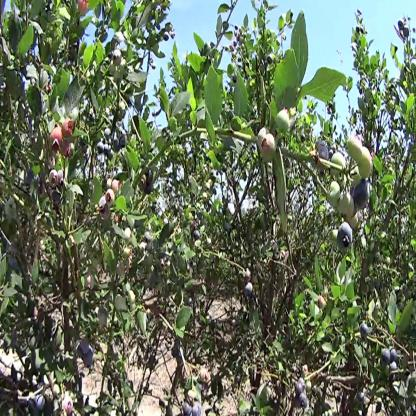intermediate: (55, 119, 75, 161)
mature: (78, 336, 95, 369), (382, 347, 400, 377), (353, 183, 371, 208), (296, 378, 310, 407), (338, 224, 352, 249), (315, 141, 330, 164), (181, 403, 203, 415), (361, 323, 369, 337)
young: (259, 130, 276, 160), (340, 195, 358, 222), (111, 51, 126, 83), (348, 140, 363, 164), (360, 148, 372, 177), (278, 107, 290, 134), (127, 290, 140, 312), (104, 185, 118, 205), (329, 185, 339, 204)
